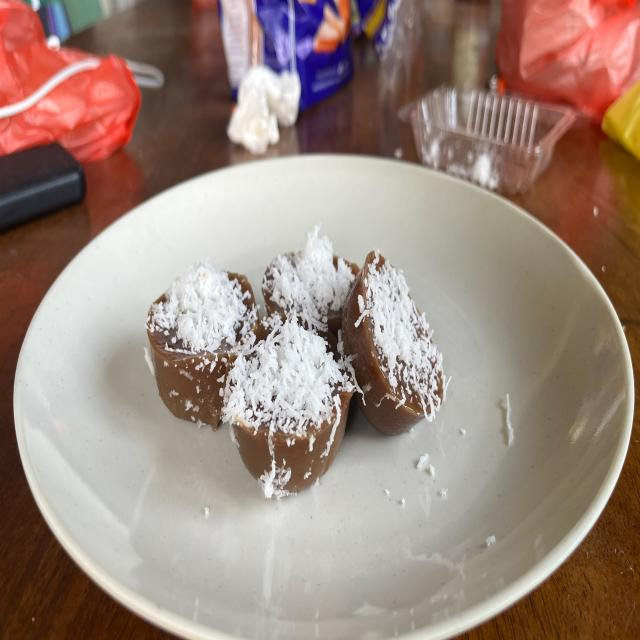Kuih lompang: (222, 311, 355, 498), (146, 258, 258, 429), (341, 251, 446, 433), (262, 224, 359, 353)
